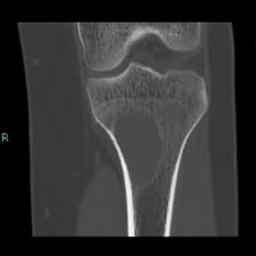cancer: (101, 101, 167, 225)
